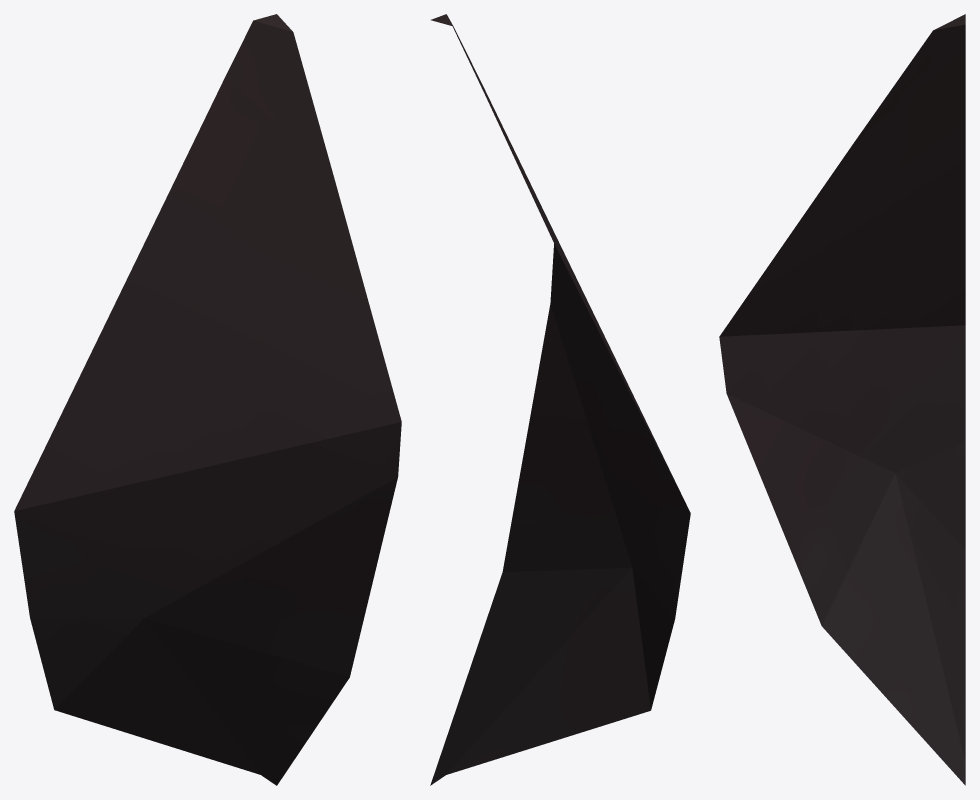
The picture shows the model from 3 angles, left to right: view 1: azimuth 30°, elevation 25°; view 2: azimuth 150°, elevation 25°; view 3: azimuth 270°, elevation 25°; orthographic projection.
Bounding box in the file's own units: 0.022 × 0.0618 × 0.0181.
Materials: 1 (1 with a texture image).
